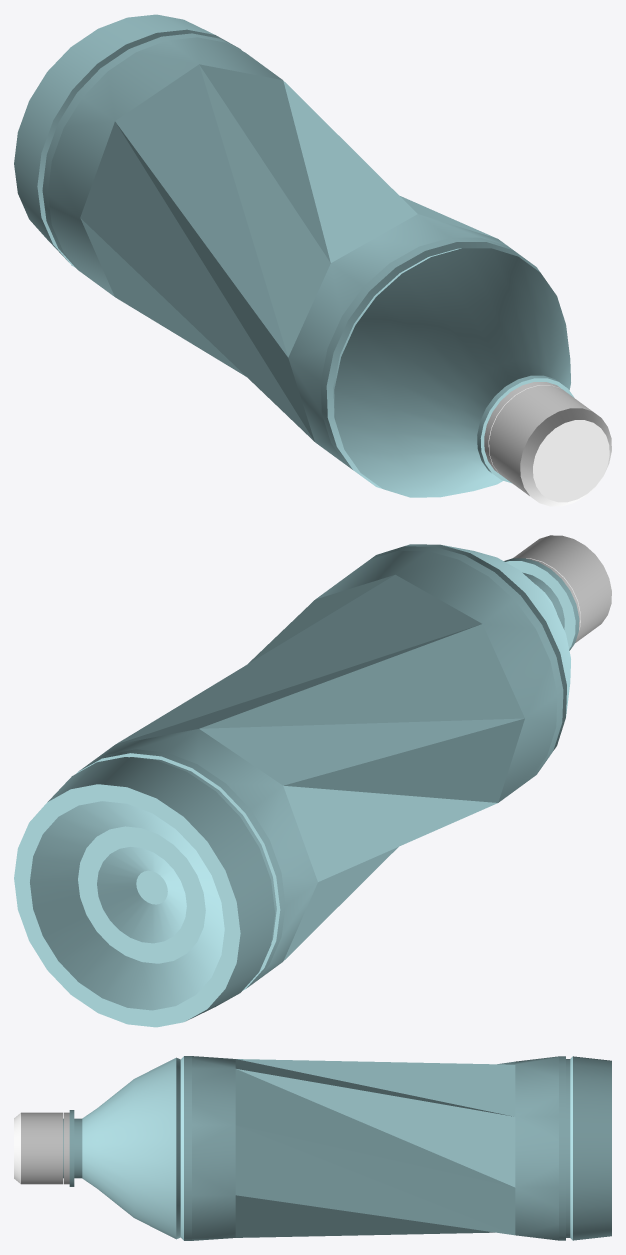
Rendered from model_scale.obj.
3 views of the same model, one above another, from view 1: azimuth 30°, elevation 25°; view 2: azimuth 150°, elevation 25°; view 3: azimuth 270°, elevation 25° (orthographic). The views are drawn at different scales.
Parts seen in each view (by area): view 1: mesh1_mesh1-geometry, mesh5_mesh5-geometry, mesh2_mesh2-geometry, mesh3_mesh3-geometry, mesh7_mesh7-geometry, mesh4_mesh4-geometry, mesh6_mesh6-geometry; view 2: mesh1_mesh1-geometry, mesh3_mesh3-geometry, mesh4_mesh4-geometry, mesh2_mesh2-geometry, mesh5_mesh5-geometry, mesh7_mesh7-geometry; view 3: mesh1_mesh1-geometry, mesh5_mesh5-geometry, mesh3_mesh3-geometry, mesh4_mesh4-geometry, mesh2_mesh2-geometry, mesh7_mesh7-geometry, mesh6_mesh6-geometry.
Part boxes in pixels (box(x1,y1,x2,y2)): mesh1_mesh1-geometry: box(80, 64, 497, 441); mesh5_mesh5-geometry: box(320, 237, 574, 497); mesh2_mesh2-geometry: box(48, 37, 282, 296); mesh3_mesh3-geometry: box(14, 14, 249, 272); mesh7_mesh7-geometry: box(489, 385, 611, 506); mesh4_mesh4-geometry: box(288, 214, 507, 465); mesh6_mesh6-geometry: box(484, 382, 560, 473); mesh1_mesh1-geometry: box(115, 574, 524, 960); mesh3_mesh3-geometry: box(14, 749, 285, 1027); mesh4_mesh4-geometry: box(315, 551, 557, 802); mesh2_mesh2-geometry: box(84, 729, 317, 984); mesh5_mesh5-geometry: box(371, 544, 579, 778); mesh7_mesh7-geometry: box(513, 535, 611, 642); mesh1_mesh1-geometry: box(235, 1059, 515, 1237); mesh5_mesh5-geometry: box(63, 1056, 191, 1240); mesh3_mesh3-geometry: box(559, 1056, 611, 1240); mesh4_mesh4-geometry: box(192, 1056, 235, 1240); mesh2_mesh2-geometry: box(515, 1056, 558, 1240); mesh7_mesh7-geometry: box(14, 1112, 62, 1184); mesh6_mesh6-geometry: box(63, 1112, 69, 1184).
Size of the model in its own units: 0.0484 by 0.0484 by 0.1564.
